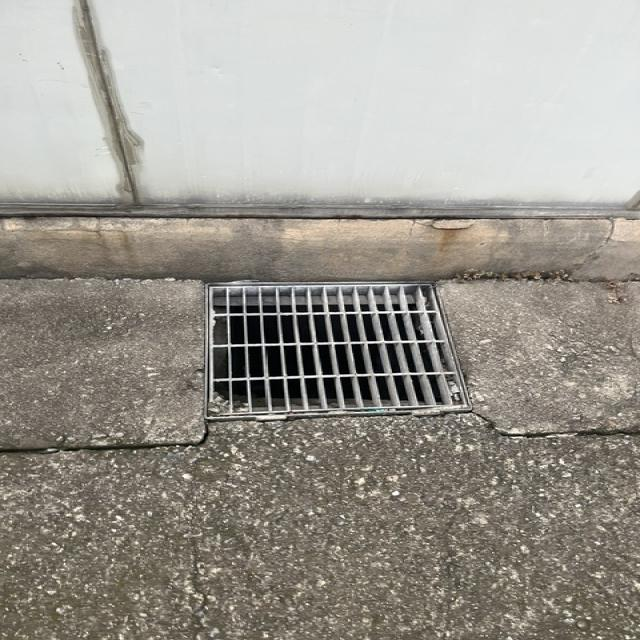drain_area: (213, 287, 449, 413)
drain_full: (211, 285, 467, 415)
